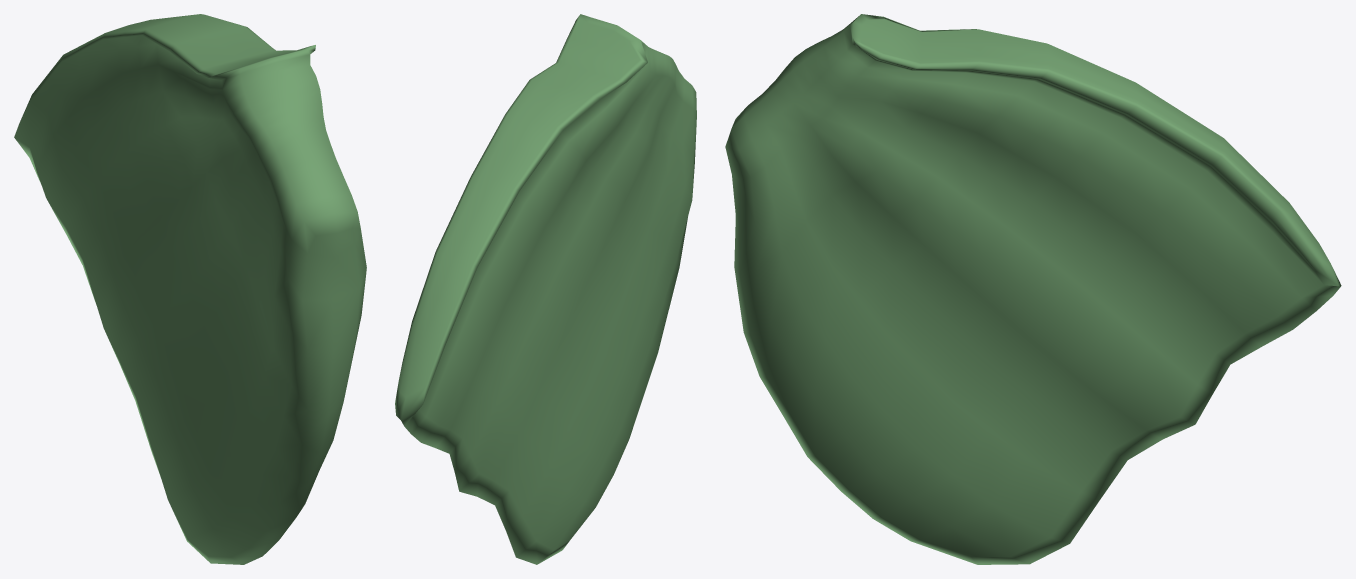
File: fin_back_02.fbx
3 renders of one model, left to right at view 1: azimuth 30°, elevation 25°; view 2: azimuth 150°, elevation 25°; view 3: azimuth 270°, elevation 25°, orthographic. The views are drawn at different scales.
Parts seen in each view (by area): view 1: high_fin_back; view 2: high_fin_back; view 3: high_fin_back.
Boxes of the visible parts, box(x1,y1,x2,y2) form: high_fin_back: box(14, 14, 366, 564); high_fin_back: box(395, 14, 696, 564); high_fin_back: box(725, 14, 1341, 564).
Size of the model in its own units: 0.0912 by 0.4924 by 0.5039.
